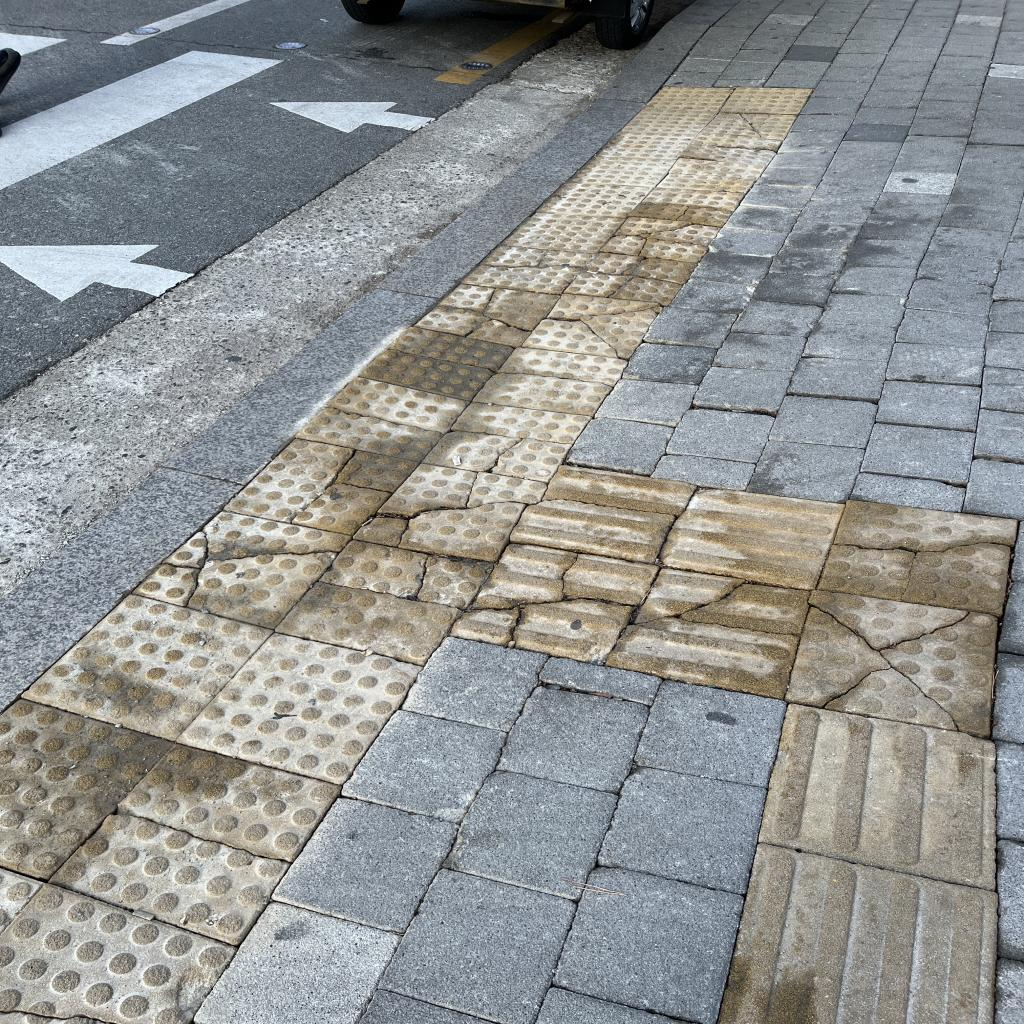Stop block broken: (55, 685, 337, 981), (787, 591, 1003, 734), (135, 497, 350, 639), (275, 530, 490, 672), (818, 498, 1016, 613), (224, 428, 415, 545), (354, 454, 547, 568), (299, 368, 466, 470), (424, 398, 589, 485), (361, 319, 512, 406), (476, 343, 627, 418), (416, 280, 559, 349), (523, 291, 662, 361), (564, 249, 696, 308), (464, 243, 594, 297), (601, 215, 719, 265), (629, 187, 744, 227)
Stop block normal: (24, 577, 269, 753), (179, 617, 420, 794), (504, 212, 623, 252), (541, 181, 651, 219)
Straight block broken: (607, 564, 808, 700), (452, 538, 659, 668), (511, 460, 694, 564)
Straight block normal: (761, 705, 1016, 886), (660, 485, 844, 590)
